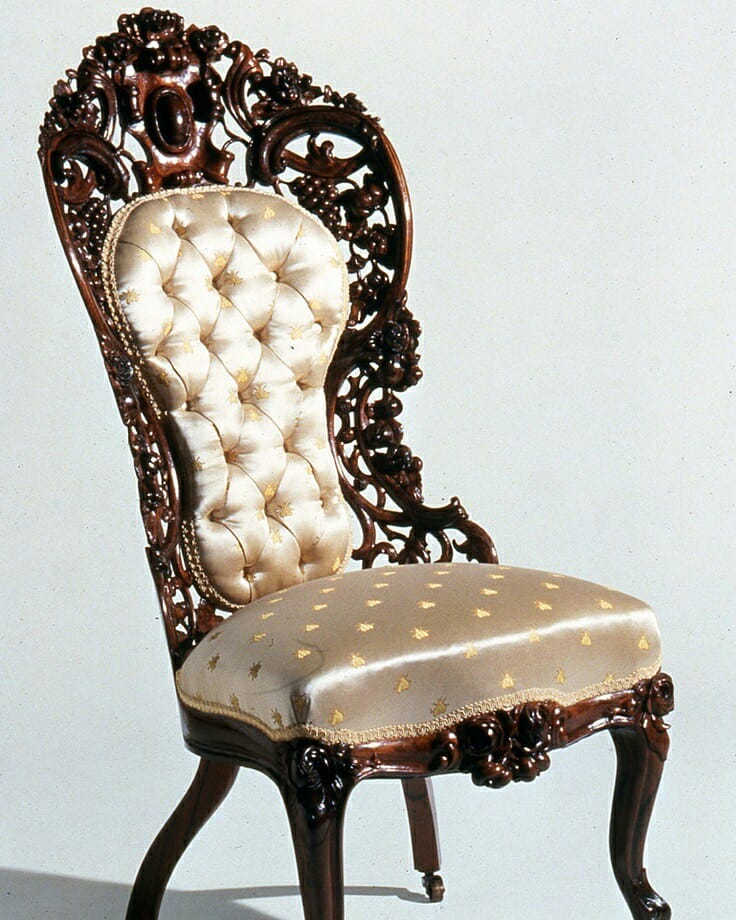Carving Chair: (50, 20, 670, 920)
